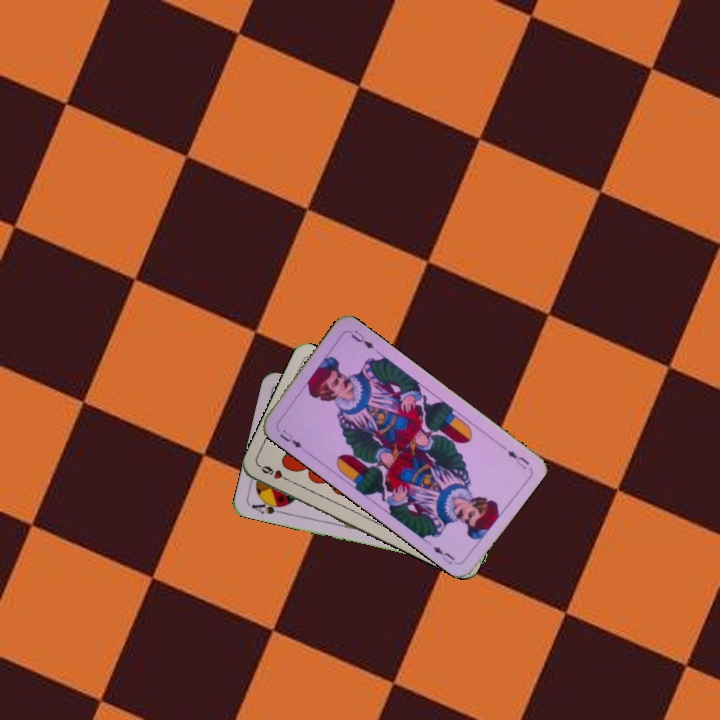EU: (275, 425, 305, 451), (503, 446, 532, 472)
H9: (256, 461, 294, 485)
SA: (247, 496, 288, 517)
